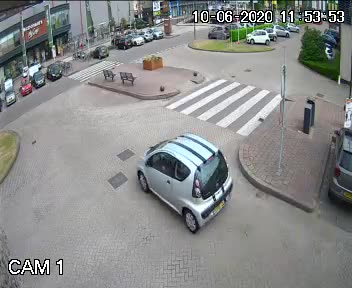car: (124, 125, 237, 229)
